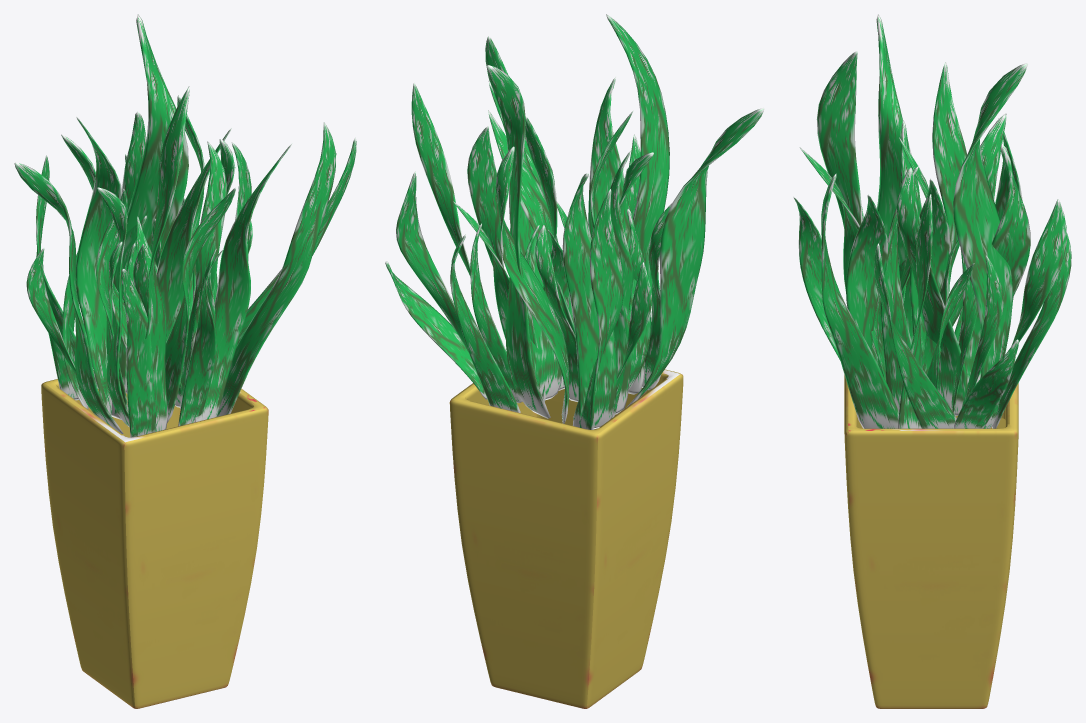
File: plant.dae
3 views of the same model, side by side, from view 1: azimuth 30°, elevation 25°; view 2: azimuth 150°, elevation 25°; view 3: azimuth 270°, elevation 25° (orthographic). The views are drawn at different scales.
Parts seen in each view (by area): view 1: objMesh; view 2: objMesh; view 3: objMesh.
Part boxes in pixels (x1,y1,x2,y2): objMesh: [14, 14, 356, 708]; objMesh: [385, 14, 764, 708]; objMesh: [793, 14, 1071, 708].
Size of the model in its own units: 294 by 512 by 202.
2 materials, 2 textured.
